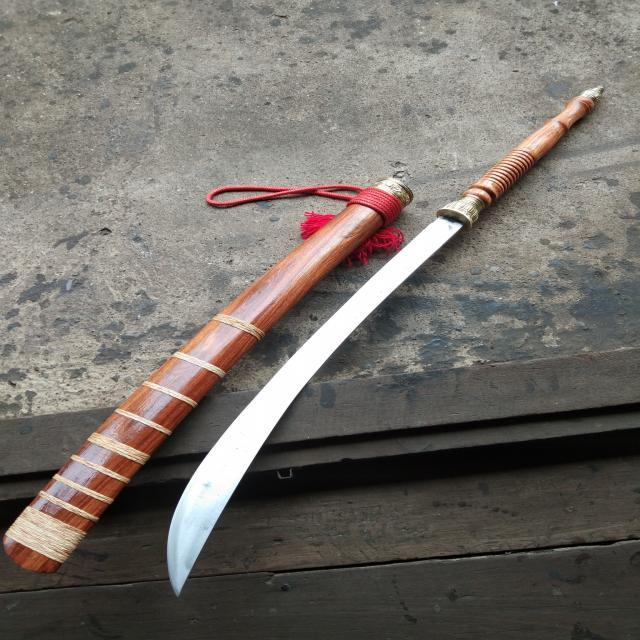long sword: (148, 80, 600, 600)
